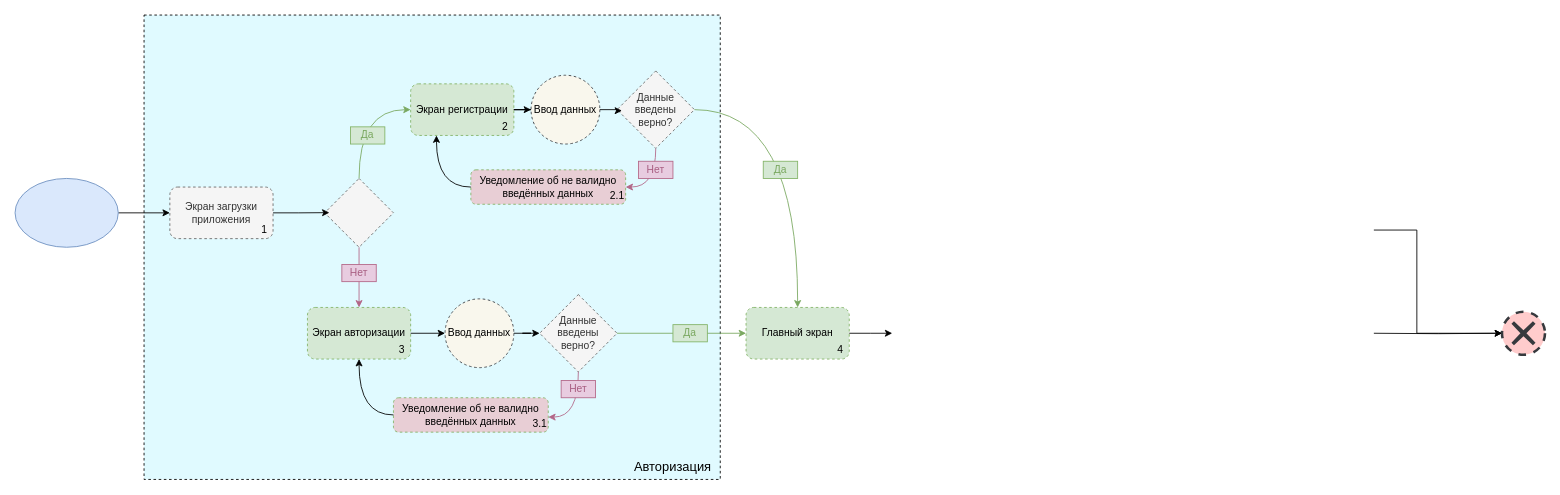
The diagram is 1560 pixels wide and 495 high, and some of its shapes have lost their labels. Each missing label, with the centre of its shape:
Зайти на сайт: point 66,212
Зашел впервые?: point 358,212
